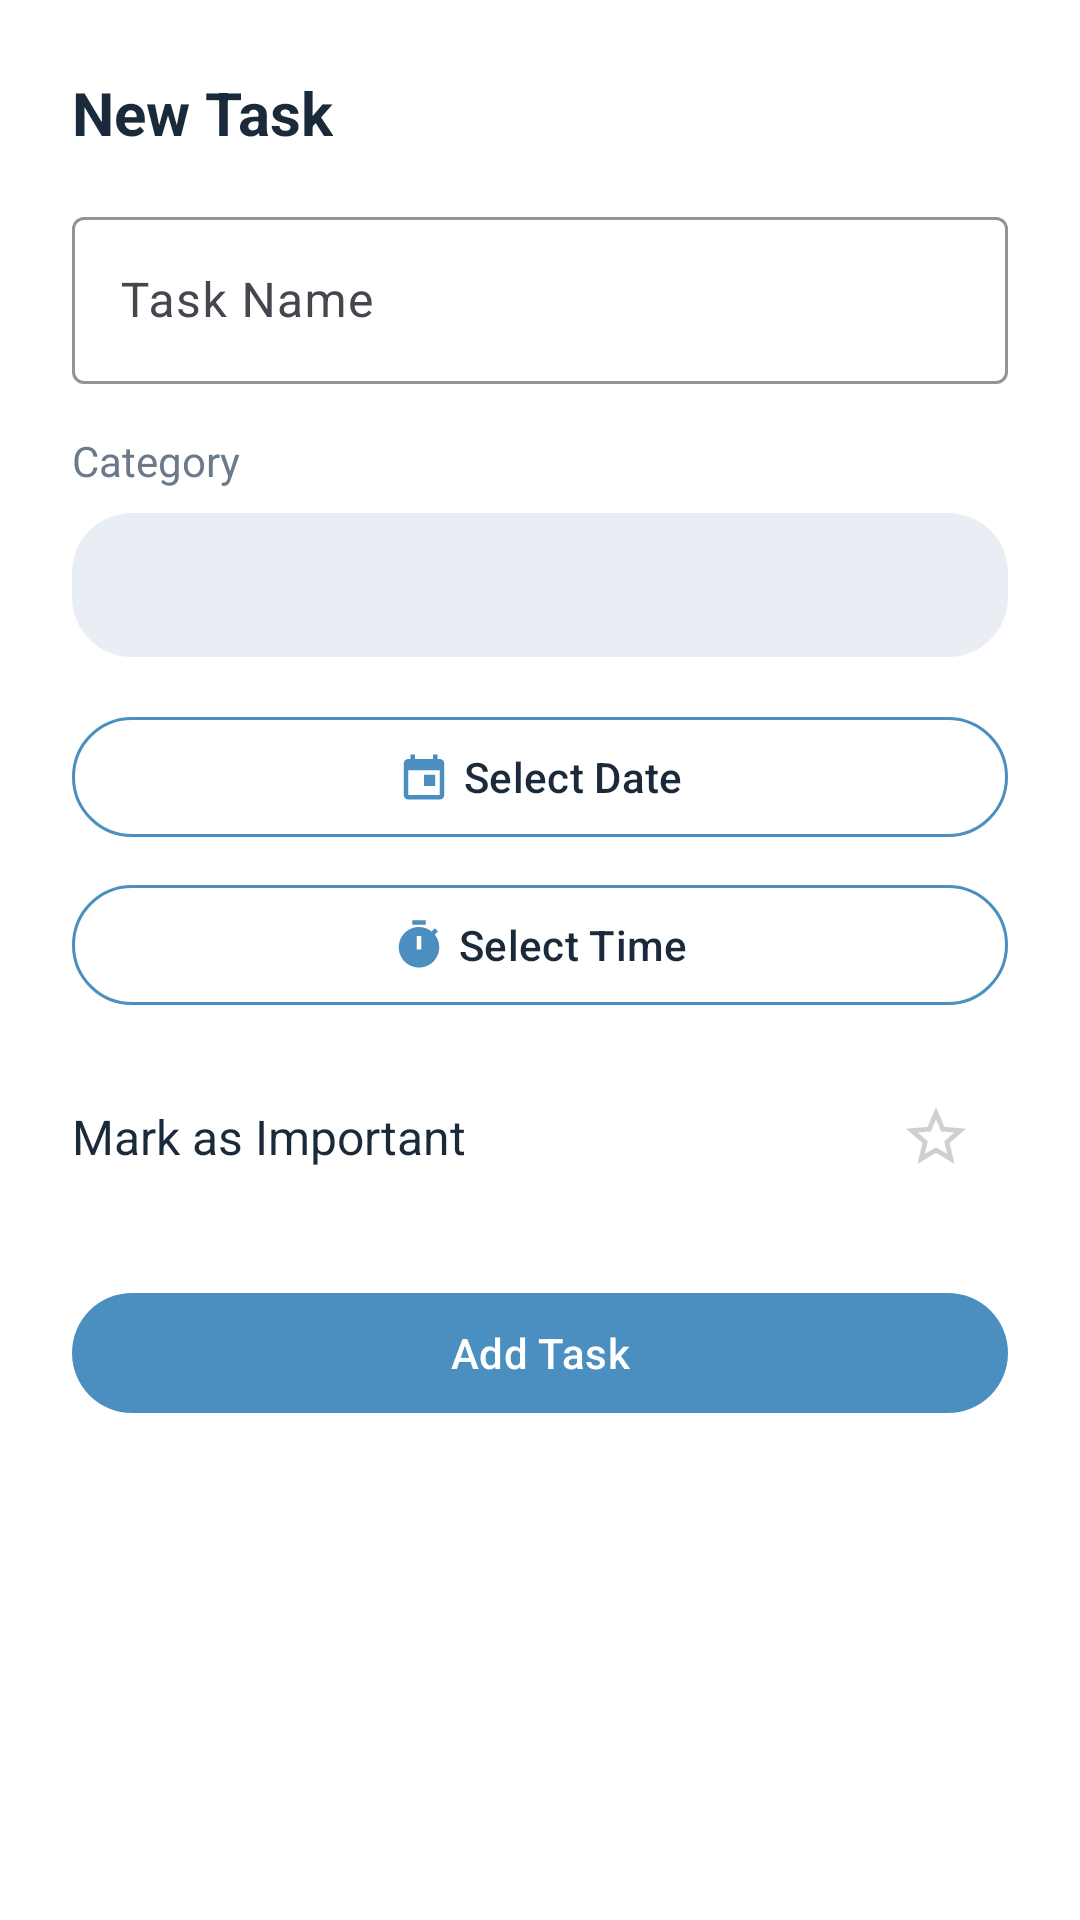

Locate icon controls on the screen. Image size 1080*1920, boxes as bbox=[x1, y1, x2, y2].
Star task: bbox=[907, 1108, 965, 1163]
